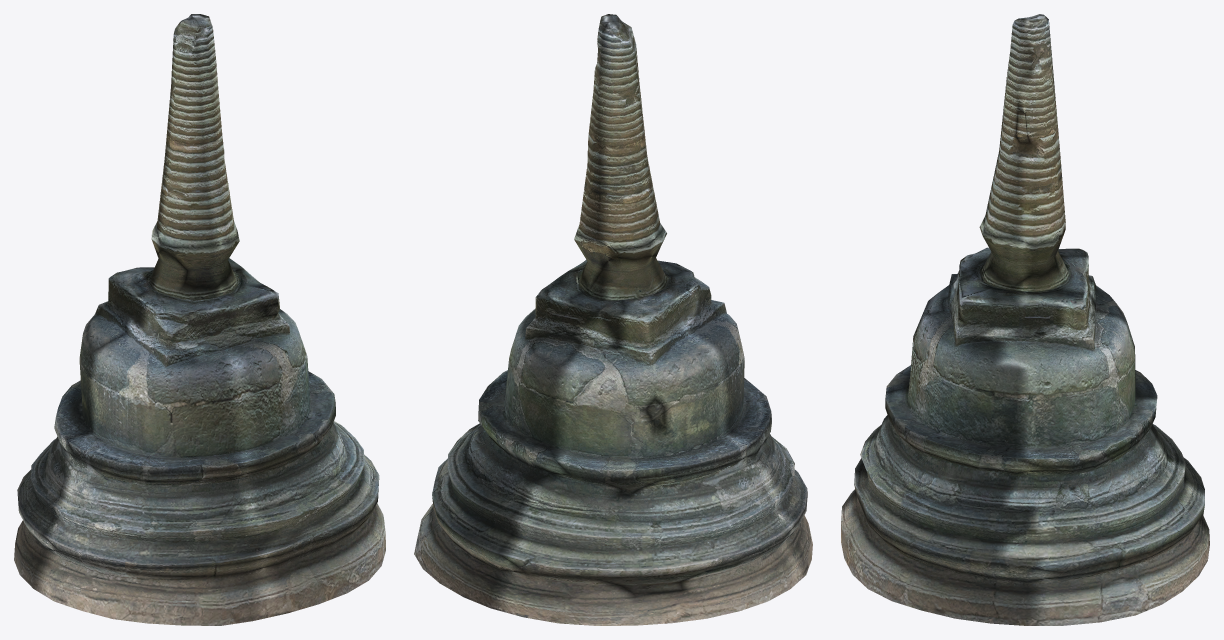
The model's file is poe-cursed-shrine.glb.
3 views of the same model, side by side, from view 1: azimuth 30°, elevation 25°; view 2: azimuth 150°, elevation 25°; view 3: azimuth 270°, elevation 25° (orthographic).
Visible parts, largest first — view 1: poe-cursed-shrine_mesh; view 2: poe-cursed-shrine_mesh; view 3: poe-cursed-shrine_mesh.
Boxes of the visible parts, bbox=[...] form: poe-cursed-shrine_mesh: bbox=[14, 14, 385, 625]; poe-cursed-shrine_mesh: bbox=[414, 14, 812, 625]; poe-cursed-shrine_mesh: bbox=[841, 14, 1209, 625].
Size of the model in its own units: 1.47 by 2.2 by 1.39.
1 material, 1 textured.
